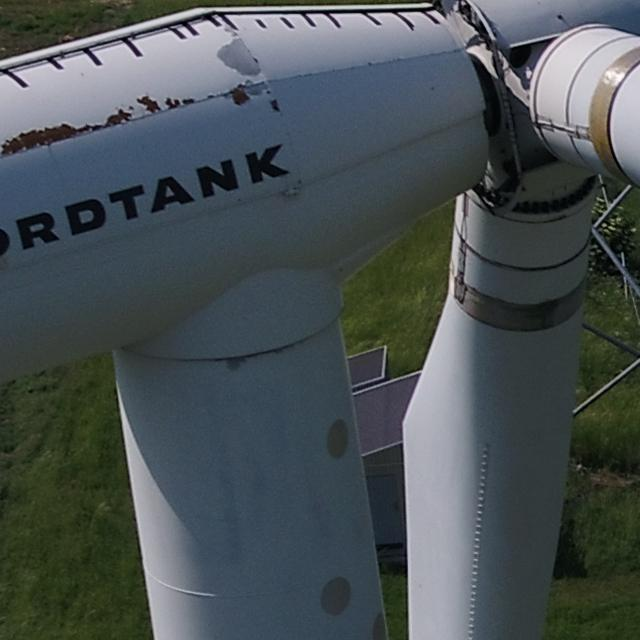damage: (2, 101, 134, 160), (461, 438, 499, 635), (212, 35, 260, 75), (218, 361, 250, 383), (227, 81, 251, 108), (132, 93, 160, 115), (163, 94, 195, 111), (264, 95, 286, 115)
